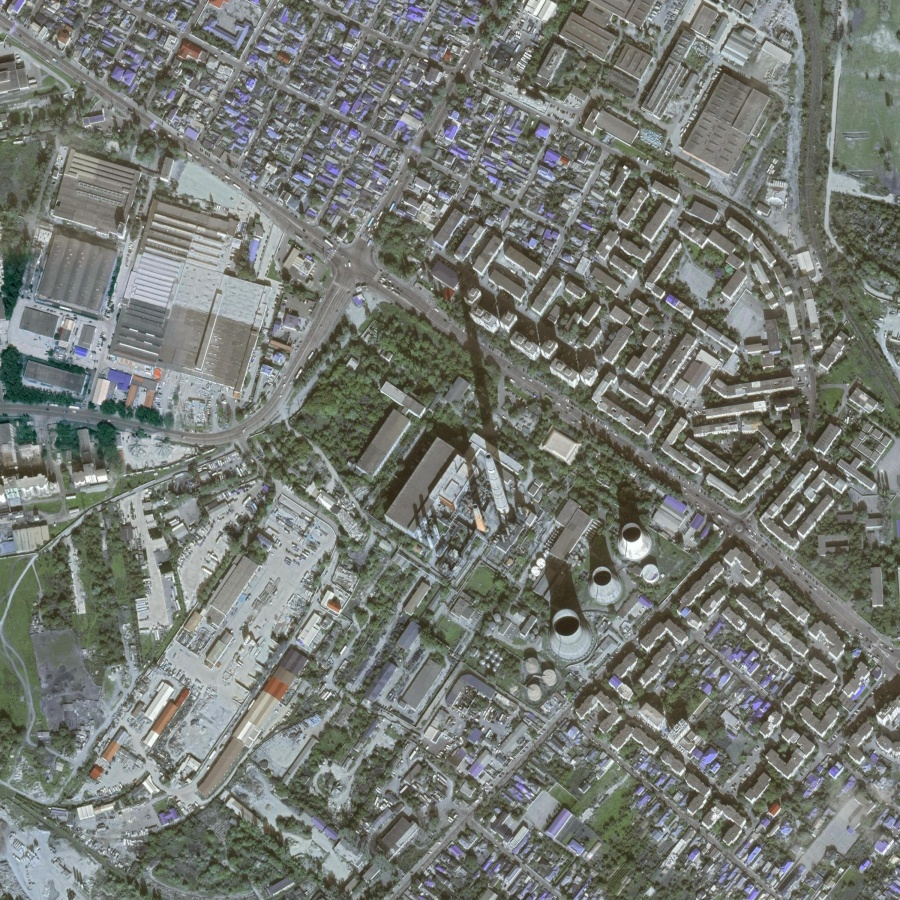PowerPlant: (392, 344, 678, 688)
